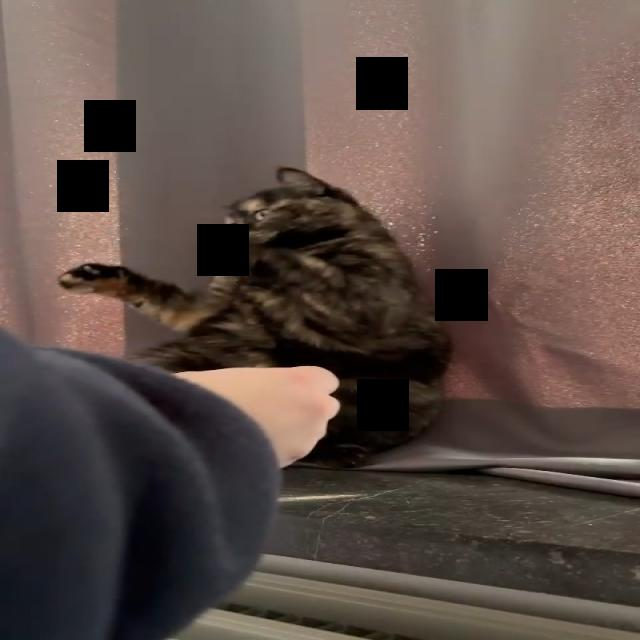authorized: (56, 165, 453, 469)
